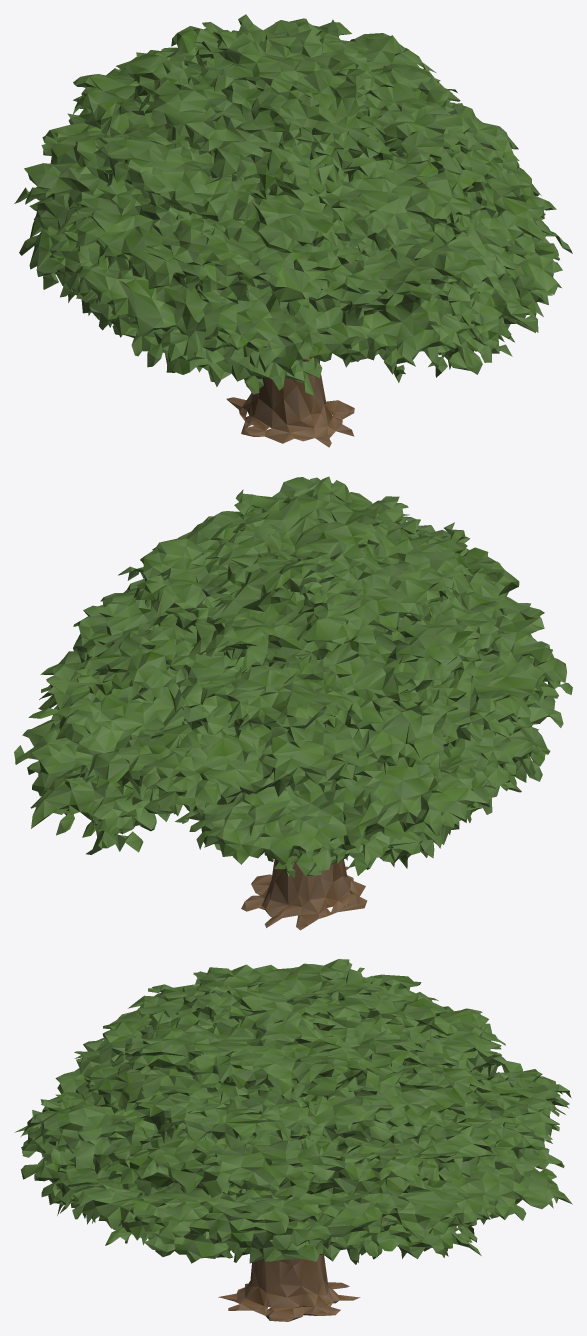
Rendered from chestnut_tree.glb.
The picture shows the model from 3 angles, top to bottom: view 1: azimuth 30°, elevation 25°; view 2: azimuth 150°, elevation 25°; view 3: azimuth 270°, elevation 25°; orthographic projection. The views are drawn at different scales.
Parts seen in each view (by area): view 1: world; view 2: world; view 3: world.
Part boxes in pixels (x1=…): world: x1=14, y1=14, x2=572, y2=447; world: x1=14, y1=476, x2=572, y2=930; world: x1=14, y1=959, x2=572, y2=1321.
Bounding box in the file's own units: 5.38 × 4.5 × 7.
